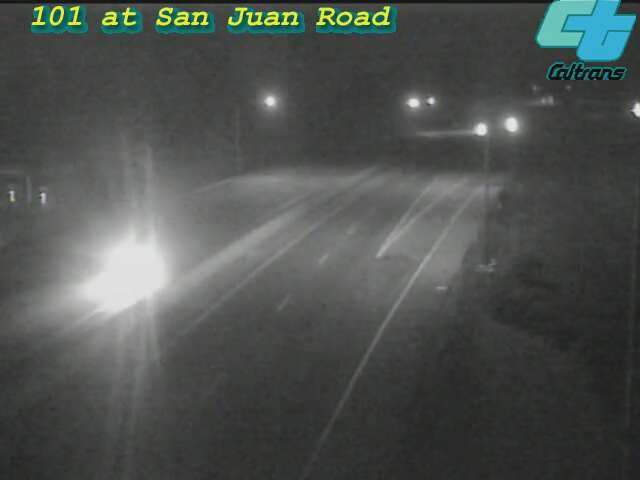vehicle: (84, 232, 164, 312), (455, 105, 505, 155), (485, 100, 535, 150), (612, 85, 640, 135)
